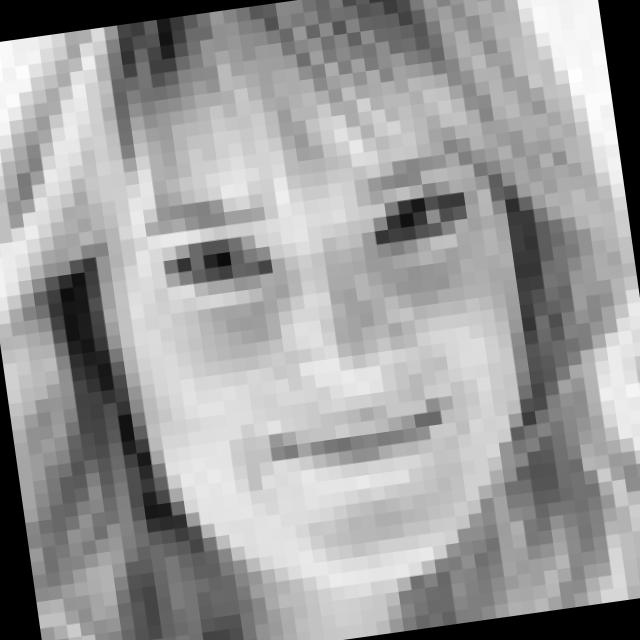happy: (125, 139, 520, 521)
